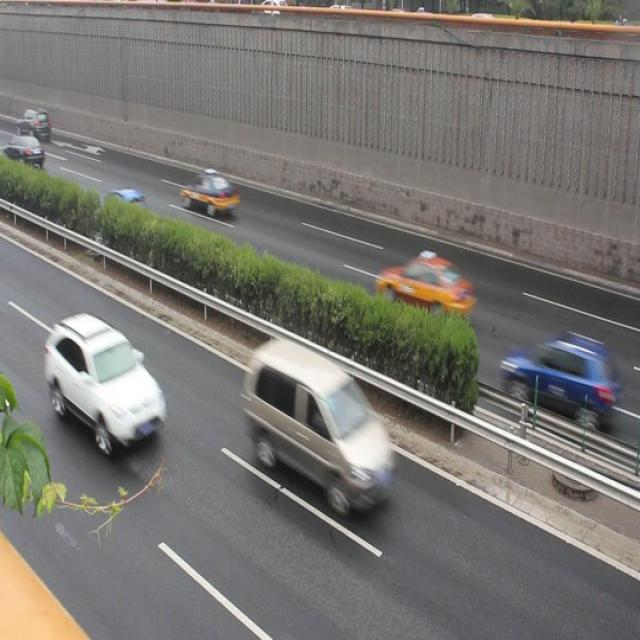car: (46, 312, 165, 443), (503, 328, 604, 417), (374, 251, 472, 319), (88, 185, 148, 236), (179, 168, 237, 214)
